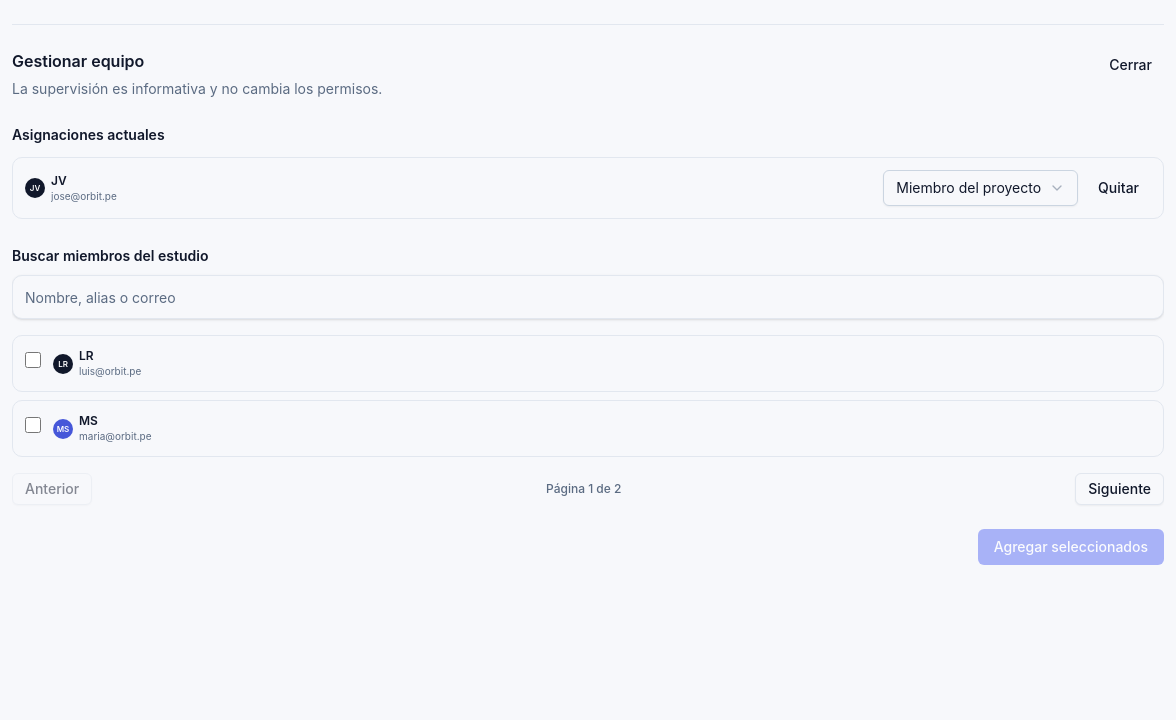
Test case: ProjectTeamManager › keeps selections and reports a stale write for retry
Click the checkbox labelled "LR LR luis@orbit.pe": (33, 360) [25,352,41,368]
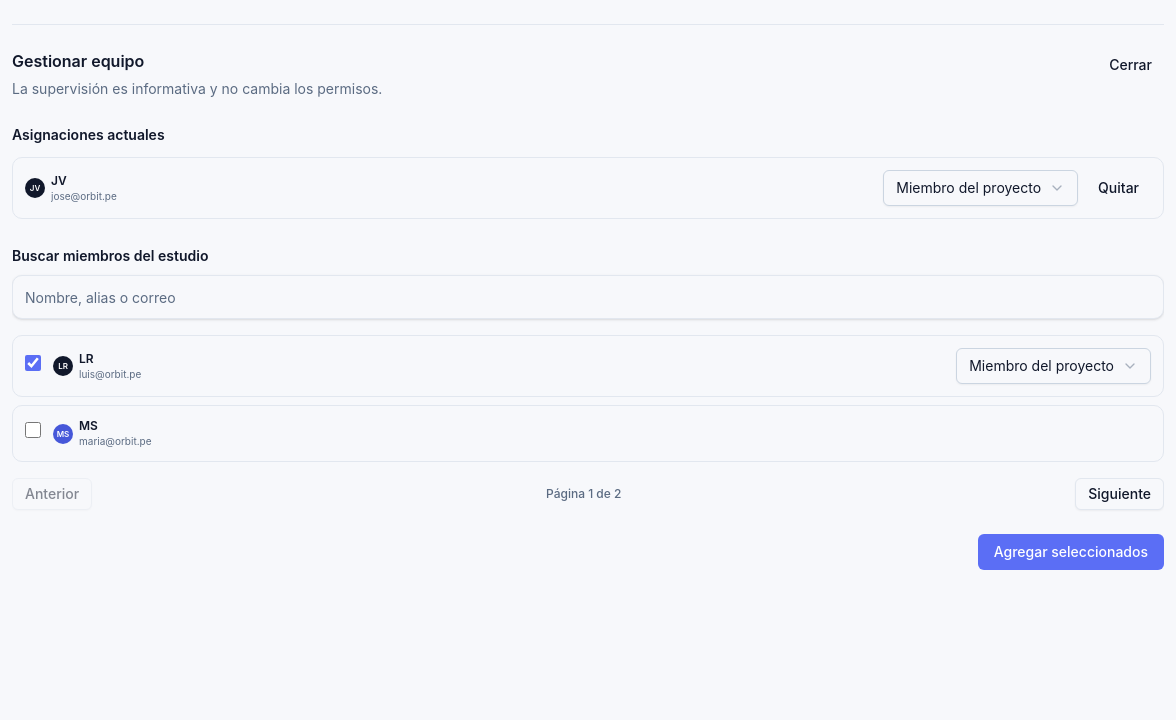
Click the button "Agregar seleccionados": (1071, 552) [978,534,1164,570]
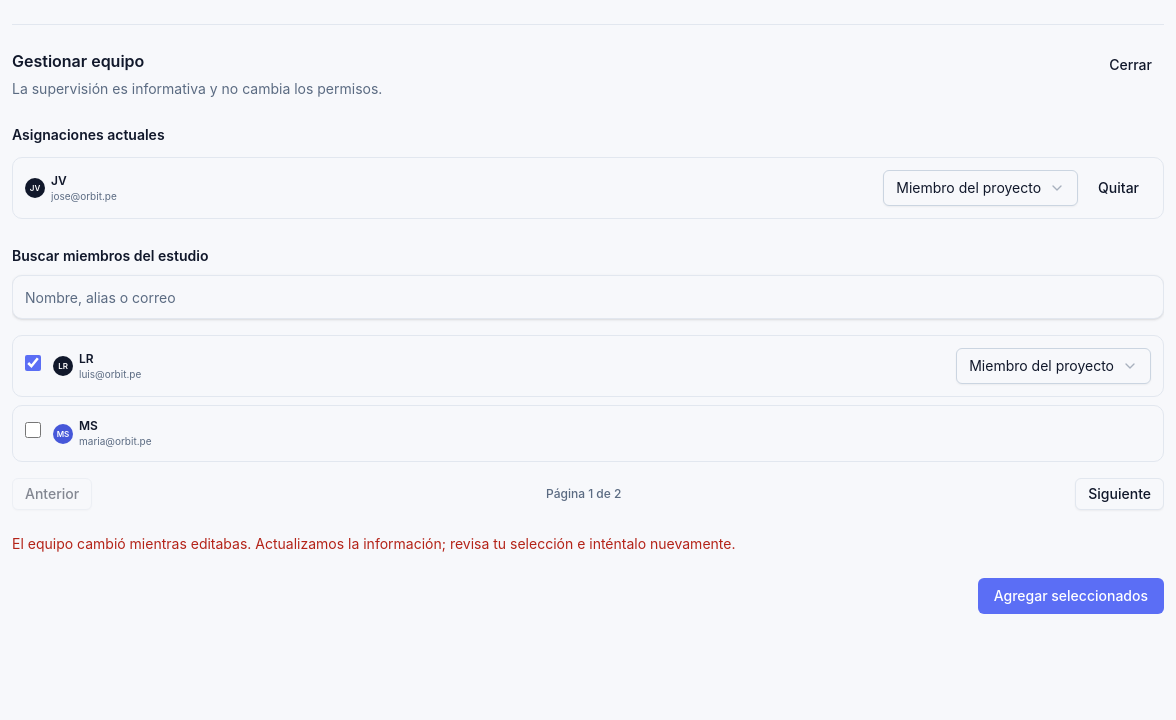
Check: the checkbox labelled "LR LR luis@orbit.pe" is checked, box [25,354,41,370]
Check: the message shows "cambió mientras editabas", box [12,535,736,552]
